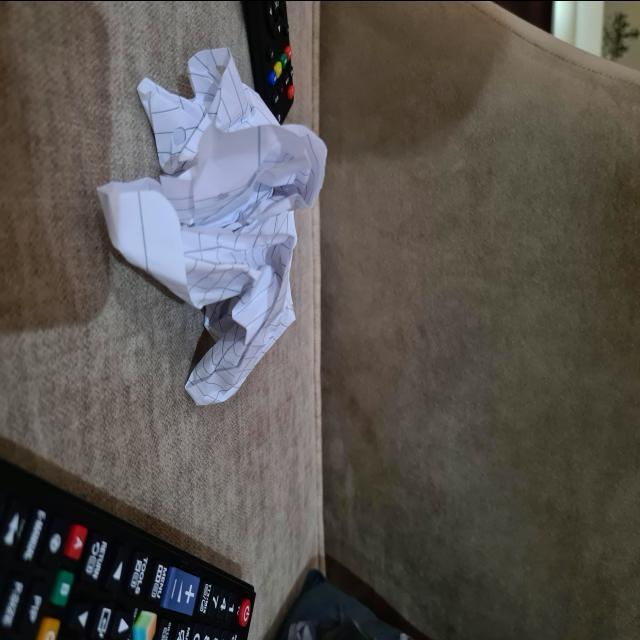Paper: (86, 68, 325, 388)
